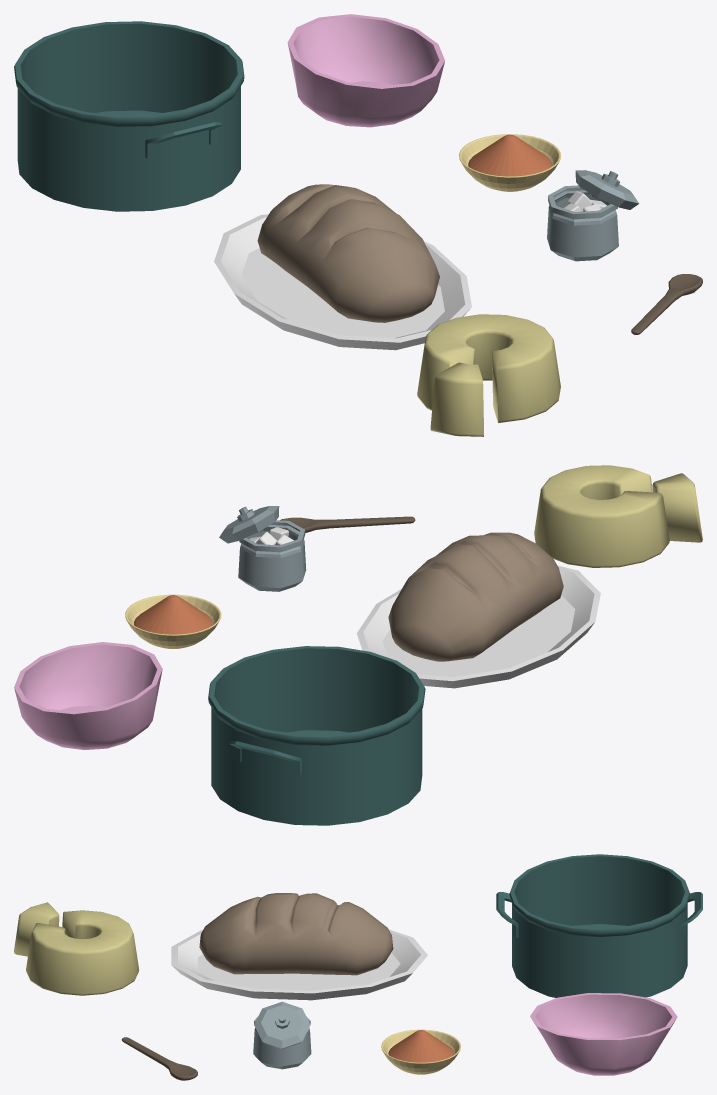
The model's file is Geometric_kitchen_assets.fbx.
The picture shows the model from 3 angles, top to bottom: view 1: azimuth 30°, elevation 25°; view 2: azimuth 150°, elevation 25°; view 3: azimuth 270°, elevation 25°; orthographic projection. The views are drawn at different scales.
Visible parts, largest first — view 1: Cylinder001, BREAD, Bowl_w_Apples, CAKE, plates_on_table, Cinnamon, polySurface1, Cover, Wood_Spoon; view 2: Cylinder001, BREAD, CAKE, Bowl_w_Apples, plates_on_table, Cinnamon, polySurface1, Cover, Wood_Spoon; view 3: Cylinder001, BREAD, CAKE, Bowl_w_Apples, plates_on_table, Cinnamon, Cover, polySurface1, Wood_Spoon.
Boxes of the visible parts, left/top/right/bottom form: Cylinder001: left=14, top=21, right=244, bottom=211; BREAD: left=257, top=184, right=439, bottom=322; Bowl_w_Apples: left=287, top=14, right=444, bottom=127; CAKE: left=417, top=314, right=560, bottom=436; plates_on_table: left=214, top=214, right=471, bottom=350; Cinnamon: left=459, top=134, right=560, bottom=191; polySurface1: left=547, top=185, right=618, bottom=261; Cover: left=575, top=170, right=639, bottom=209; Wood_Spoon: left=631, top=274, right=702, bottom=334; Cylinder001: left=208, top=646, right=425, bottom=825; BREAD: left=388, top=532, right=563, bottom=661; CAKE: left=534, top=465, right=702, bottom=567; Bowl_w_Apples: left=14, top=642, right=162, bottom=749; plates_on_table: left=357, top=565, right=600, bottom=688; Cinnamon: left=125, top=594, right=221, bottom=648; polySurface1: left=238, top=520, right=306, bottom=591; Cover: left=219, top=506, right=279, bottom=543; Wood_Spoon: left=280, top=516, right=415, bottom=532; Cylinder001: left=496, top=854, right=702, bottom=997; BREAD: left=199, top=893, right=393, bottom=975; CAKE: left=14, top=902, right=139, bottom=995; Bowl_w_Apples: left=530, top=993, right=677, bottom=1075; plates_on_table: left=171, top=929, right=427, bottom=1000; Cinnamon: left=381, top=1029, right=460, bottom=1074; Cover: left=254, top=1001, right=310, bottom=1049; polySurface1: left=253, top=1016, right=311, bottom=1069; Wood_Spoon: left=121, top=1037, right=197, bottom=1080.
Bounding box in the file's own units: 8.5 × 2.07 × 15.79.
